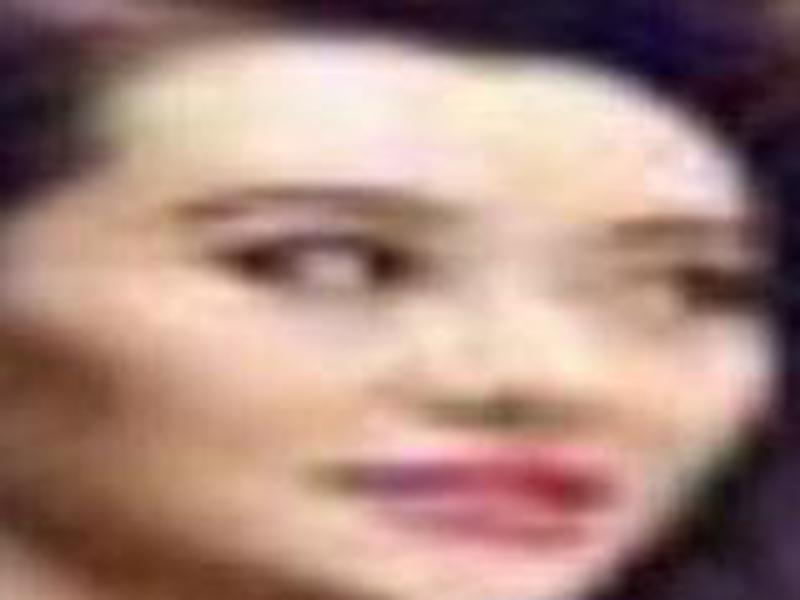without_mask: (23, 70, 768, 595)
